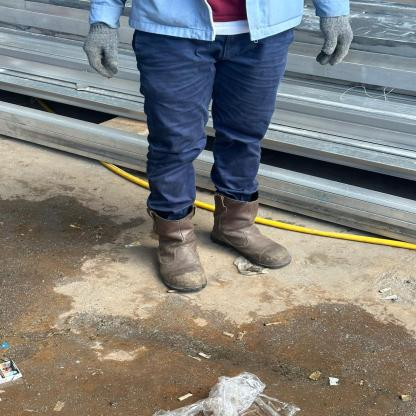bota: (204, 180, 299, 272), (134, 204, 217, 298)
